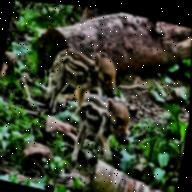boar: (39, 39, 123, 129), (67, 88, 136, 178)
